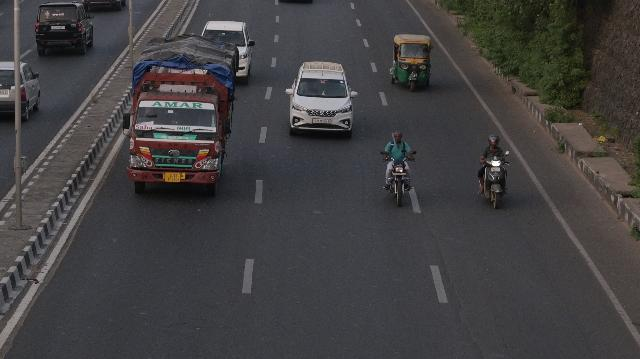With Helmet: (487, 133, 501, 147)
Without Helmet: (392, 130, 403, 144)
